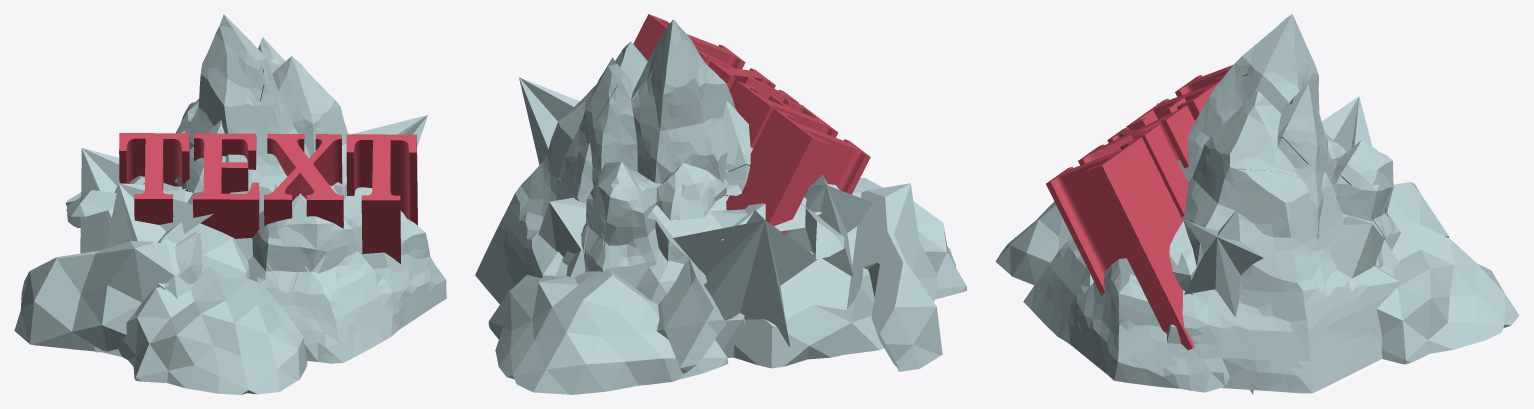
The model's file is berg.glb.
The picture shows the model from 3 angles, left to right: view 1: azimuth 30°, elevation 25°; view 2: azimuth 150°, elevation 25°; view 3: azimuth 270°, elevation 25°; orthographic projection. The views are drawn at different scales.
Parts seen in each view (by area): view 1: Mesh_Mesh_head_geo.001_lambert2SG.001; view 2: Mesh_Mesh_head_geo.001_lambert2SG.001; view 3: Mesh_Mesh_head_geo.001_lambert2SG.001.
Boxes of the visible parts, bbox=[...] form: Mesh_Mesh_head_geo.001_lambert2SG.001: bbox=[14, 14, 446, 394]; Mesh_Mesh_head_geo.001_lambert2SG.001: bbox=[475, 14, 966, 394]; Mesh_Mesh_head_geo.001_lambert2SG.001: bbox=[995, 14, 1519, 394].
Size of the model in its own units: 0.1112 by 0.0798 by 0.1175.
